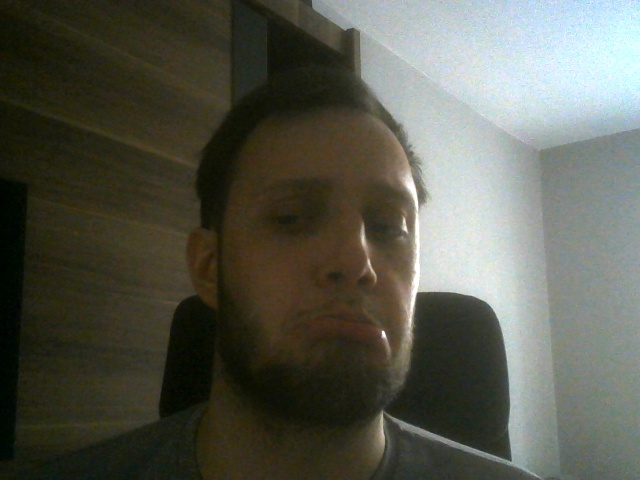neutral: (187, 69, 421, 427)
